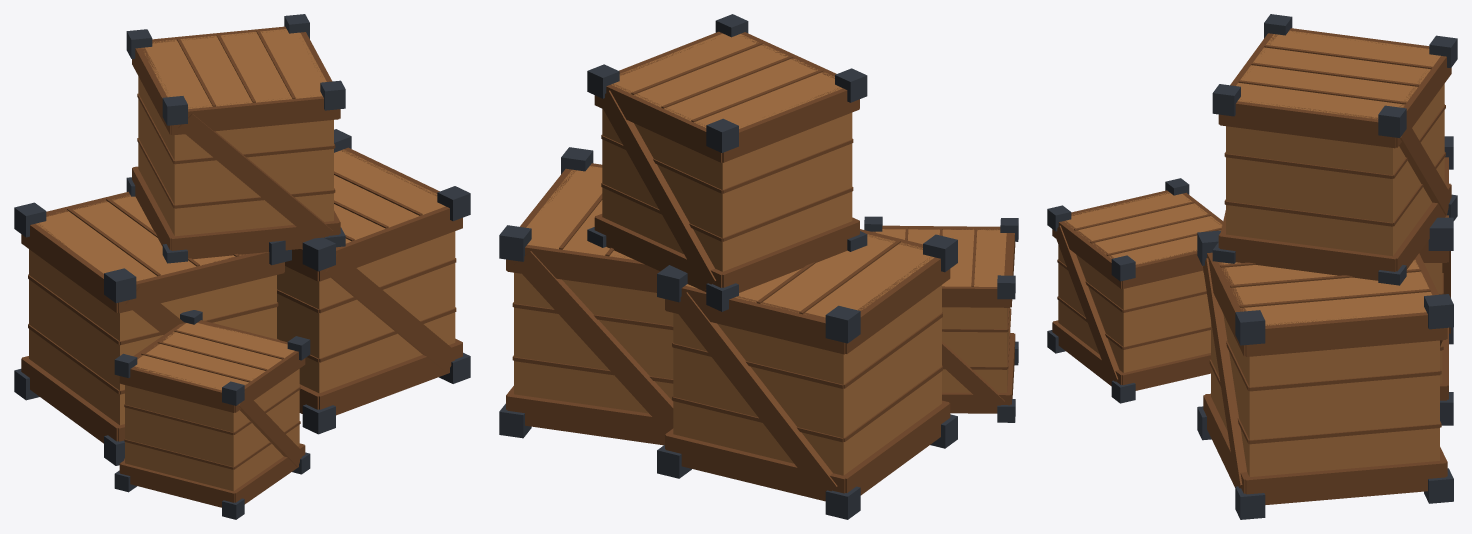
Rendered from CrateStack.glb.
The picture shows the model from 3 angles, left to right: view 1: azimuth 30°, elevation 25°; view 2: azimuth 150°, elevation 25°; view 3: azimuth 270°, elevation 25°; orthographic projection. The views are drawn at different scales.
Visible parts, largest first — view 1: Body; view 2: Body; view 3: Body.
Boxes of the visible parts, left/top/right/bottom form: Body: left=14, top=14, right=470, bottom=519; Body: left=499, top=14, right=1018, bottom=519; Body: left=1047, top=14, right=1457, bottom=519.
Bounding box in the file's own units: 4.88 × 4.03 × 4.22.
Materials: 1 (1 with a texture image).
